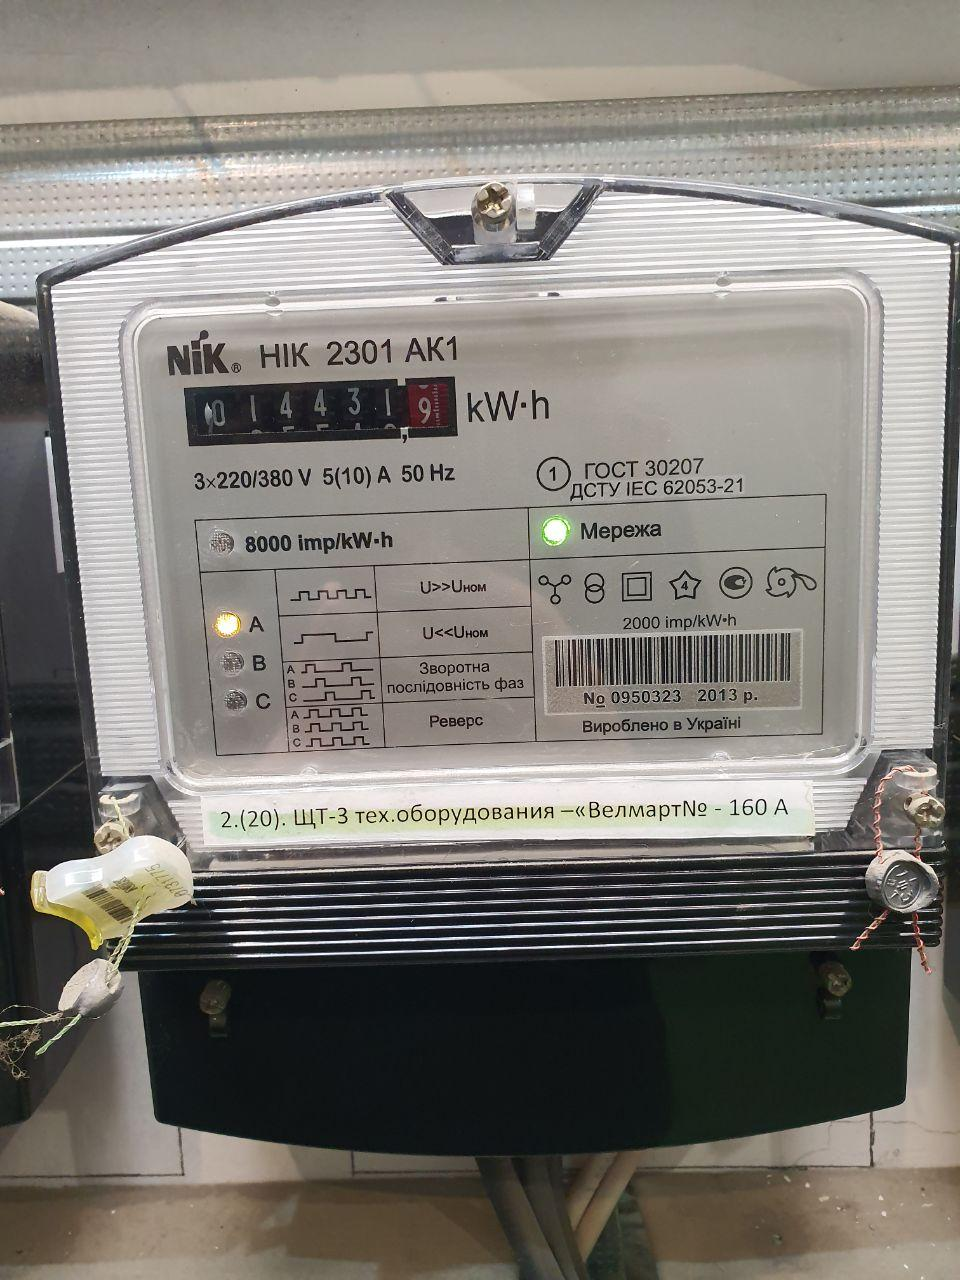0: (209, 396, 229, 429)
1: (245, 391, 263, 424), (382, 386, 395, 418)
3: (345, 386, 364, 418)
4: (276, 388, 297, 421), (311, 385, 329, 419)
9: (416, 394, 433, 425)
screen: (176, 369, 471, 455)
